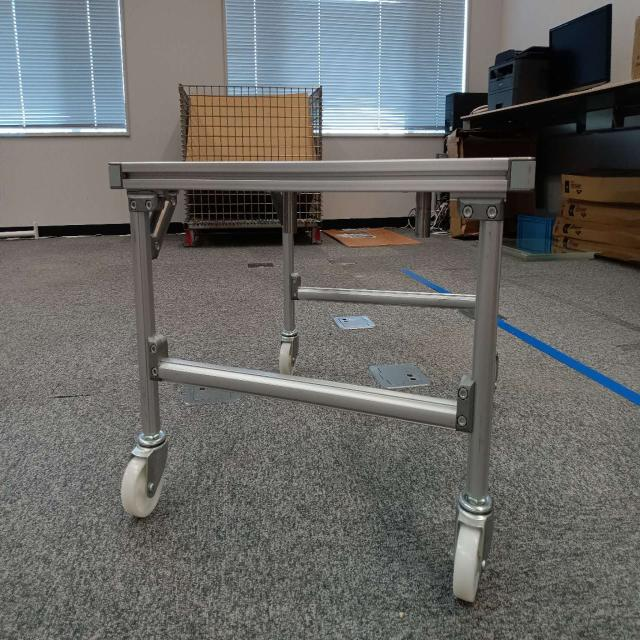side: (127, 159, 491, 433)
